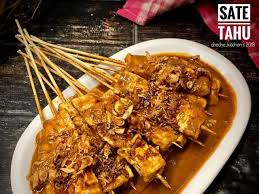sate: (14, 51, 244, 194)
